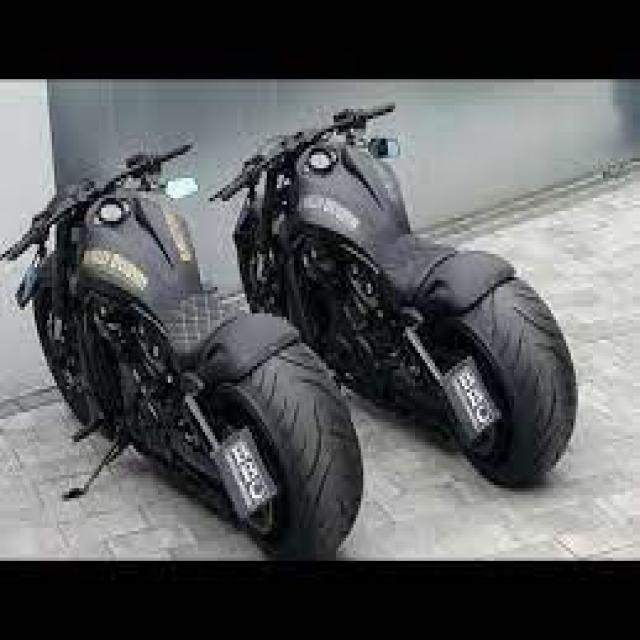Bike: (2, 142, 366, 560), (207, 98, 579, 491)
